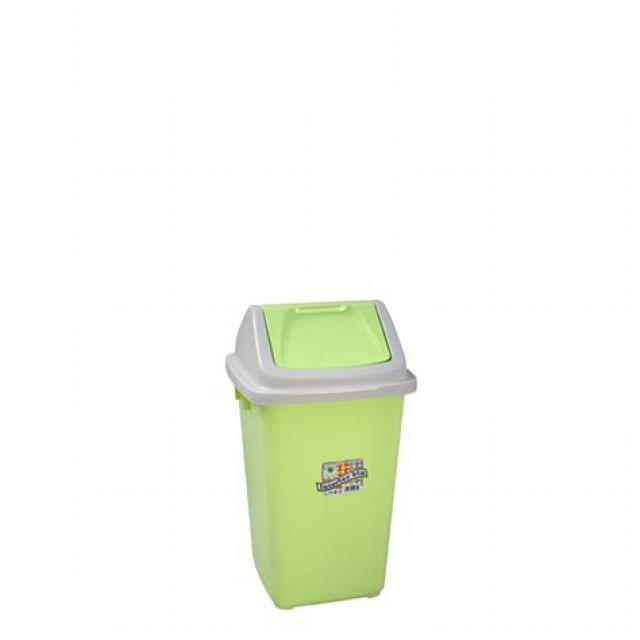garbage container: (210, 279, 450, 612)
